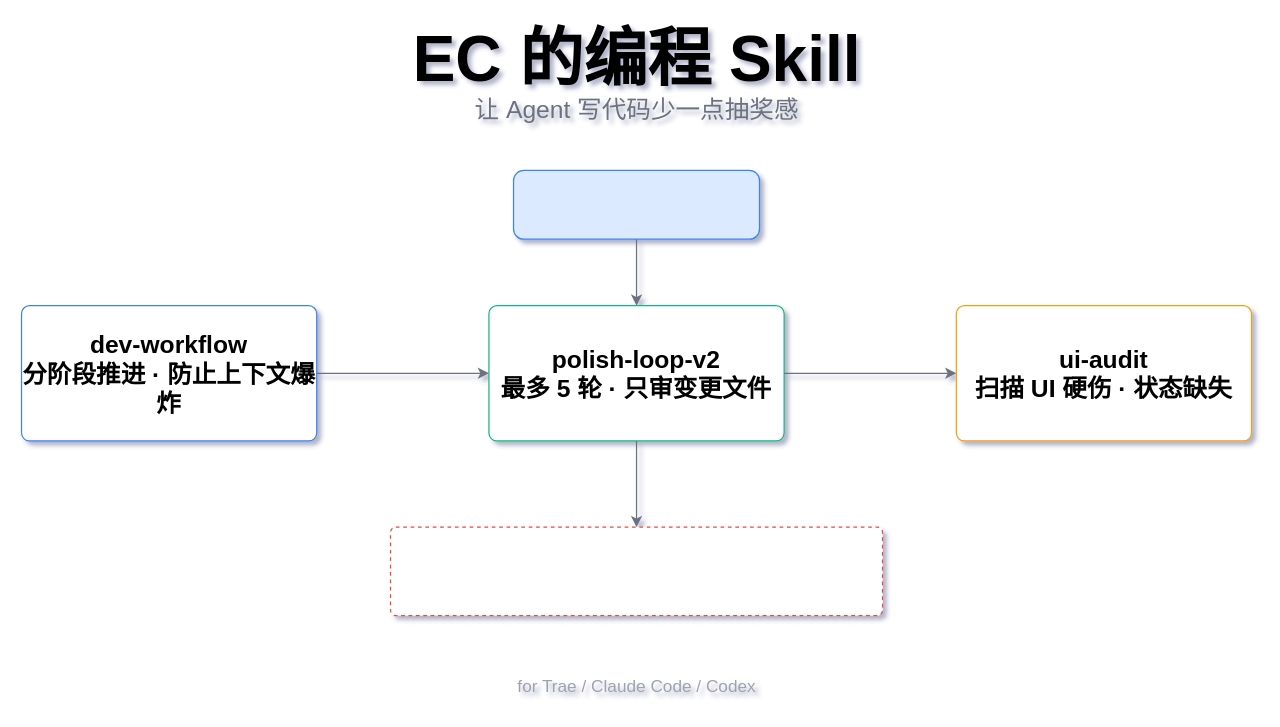
Some shapes in this 1280 by 727 pixel diagram are drawn without their labels. The shapes that lost their labels are listed below. From the top down, each one's box as (x1, y1, x2, y2) in pixels, then its label:
(512, 169, 760, 239): 用户请求
(389, 526, 883, 616): project-guardian · 强制 Git 纪律 自动 init / add / commit · 只在危险操作时确认
